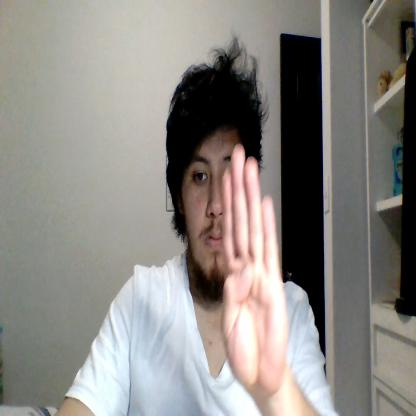B: (220, 144, 288, 392)
